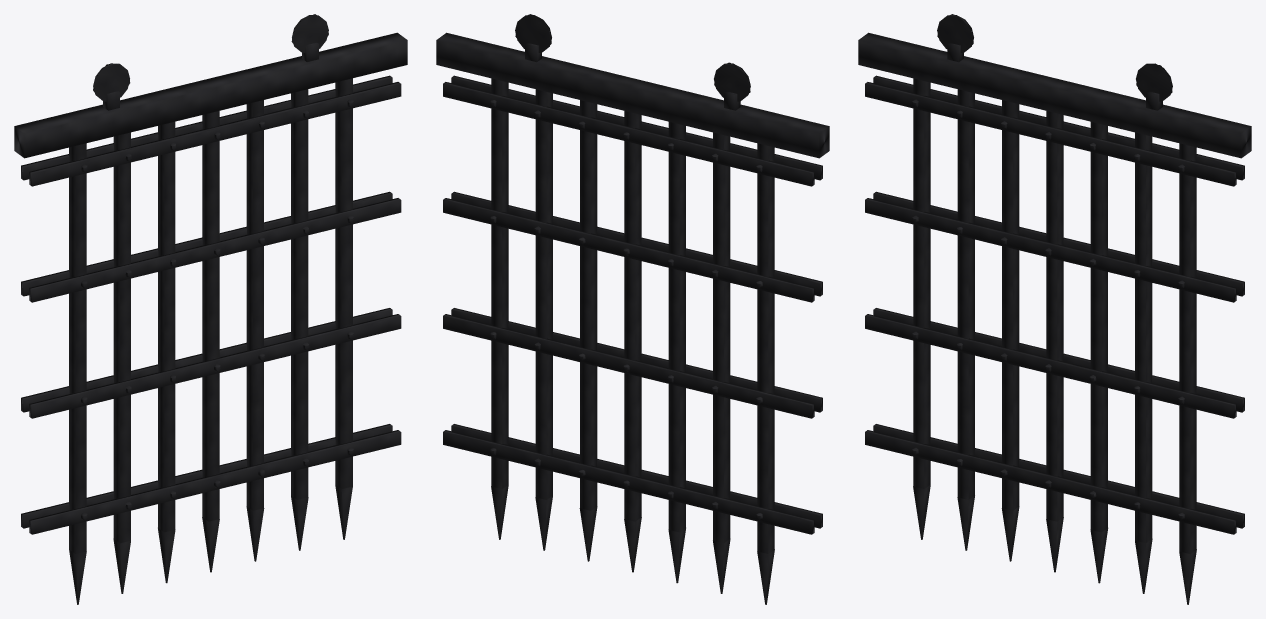
File: Portcullis_HeavyIron_LOD1.glb
3 renders of one model, left to right at view 1: azimuth 30°, elevation 25°; view 2: azimuth 150°, elevation 25°; view 3: azimuth 330°, elevation 25°, orthographic.
Parts seen in each view (by area): view 1: Portcullis_HeavyIron_LOD1; view 2: Portcullis_HeavyIron_LOD1; view 3: Portcullis_HeavyIron_LOD1.
Boxes of the visible parts, x1,y1,x2,y2 form: Portcullis_HeavyIron_LOD1: (14,14,407,604); Portcullis_HeavyIron_LOD1: (436,14,829,604); Portcullis_HeavyIron_LOD1: (858,14,1251,604).
Size of the model in its own units: 2.59 by 3.44 by 0.1892.
1 material, 1 textured.
